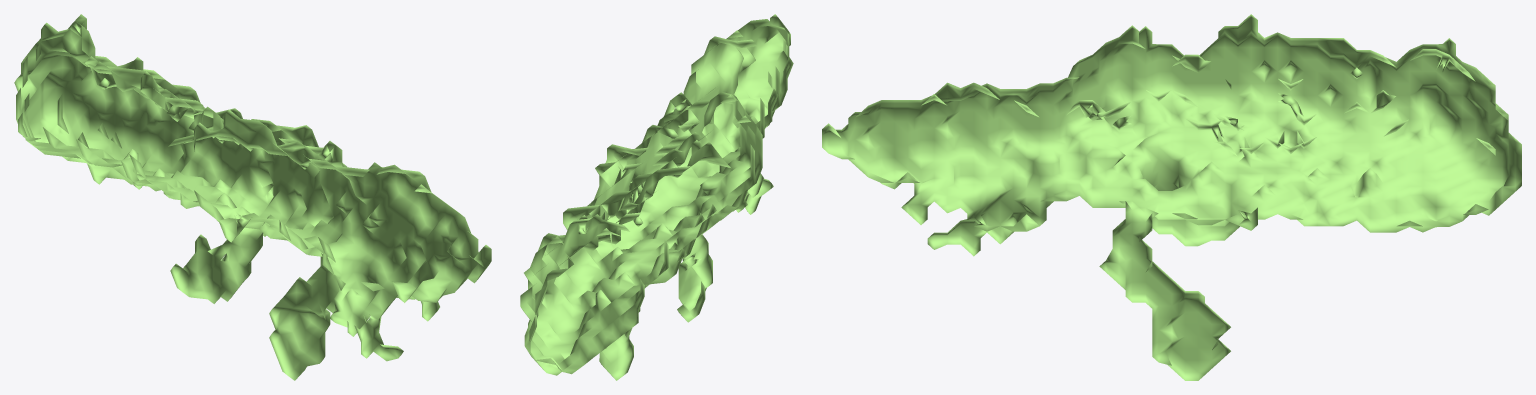
The model's file is osteocyte_64.glb.
3 renders of one model, left to right at view 1: azimuth 30°, elevation 25°; view 2: azimuth 150°, elevation 25°; view 3: azimuth 270°, elevation 25°, orthographic. The views are drawn at different scales.
Visible parts, largest first — view 1: osteocyte_64; view 2: osteocyte_64; view 3: osteocyte_64.
Part boxes in pixels (left/top/right/bottom): osteocyte_64: left=14, top=14, right=491, bottom=380; osteocyte_64: left=520, top=14, right=793, bottom=380; osteocyte_64: left=822, top=14, right=1521, bottom=380.
Bounding box in the file's own units: 6.71 × 11.62 × 23.7.
